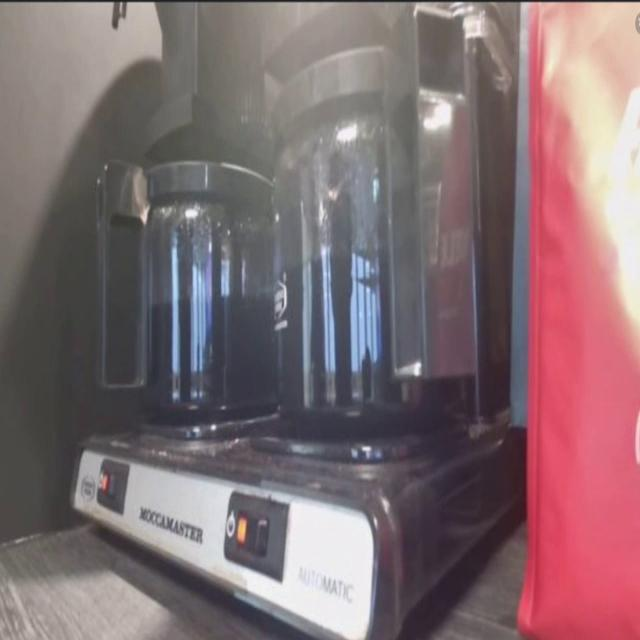coffee: (254, 28, 501, 467), (124, 116, 281, 443)
